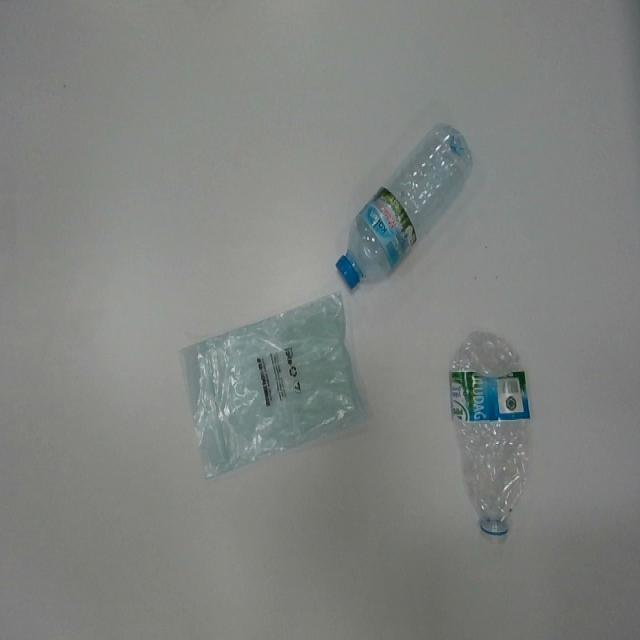plastic: (178, 291, 371, 481), (335, 121, 473, 291), (451, 329, 533, 543)
